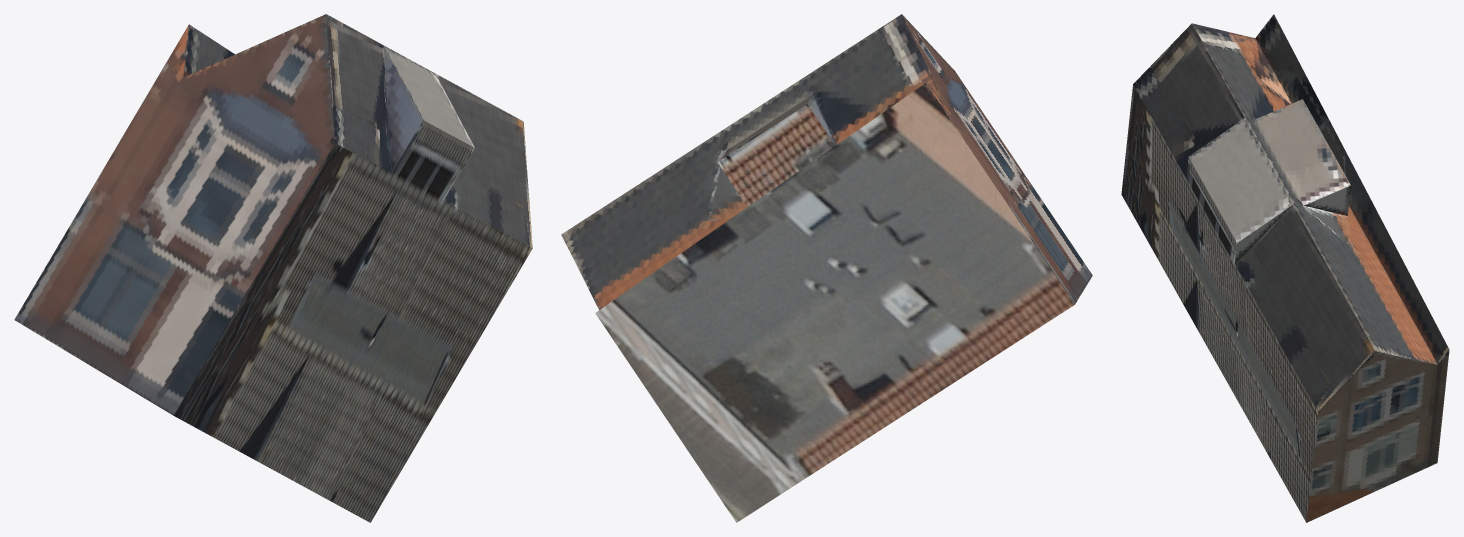
The picture shows the model from 3 angles, left to right: view 1: azimuth 30°, elevation 25°; view 2: azimuth 150°, elevation 25°; view 3: azimuth 270°, elevation 25°; orthographic projection. The views are drawn at different scales.
Parts seen in each view (by area): view 1: BAG_0599100000656924 (×3); view 2: BAG_0599100000656924 (×2); view 3: BAG_0599100000656924 (×4).
Part boxes in pixels (bbox=[...]): BAG_0599100000656924 (×3): bbox=[14, 14, 532, 522]; BAG_0599100000656924 (×2): bbox=[561, 14, 1092, 522]; BAG_0599100000656924 (×4): bbox=[1121, 14, 1449, 522].
Size of the model in its own units: 15.82 by 15.34 by 10.02.
1 material, 1 textured.
